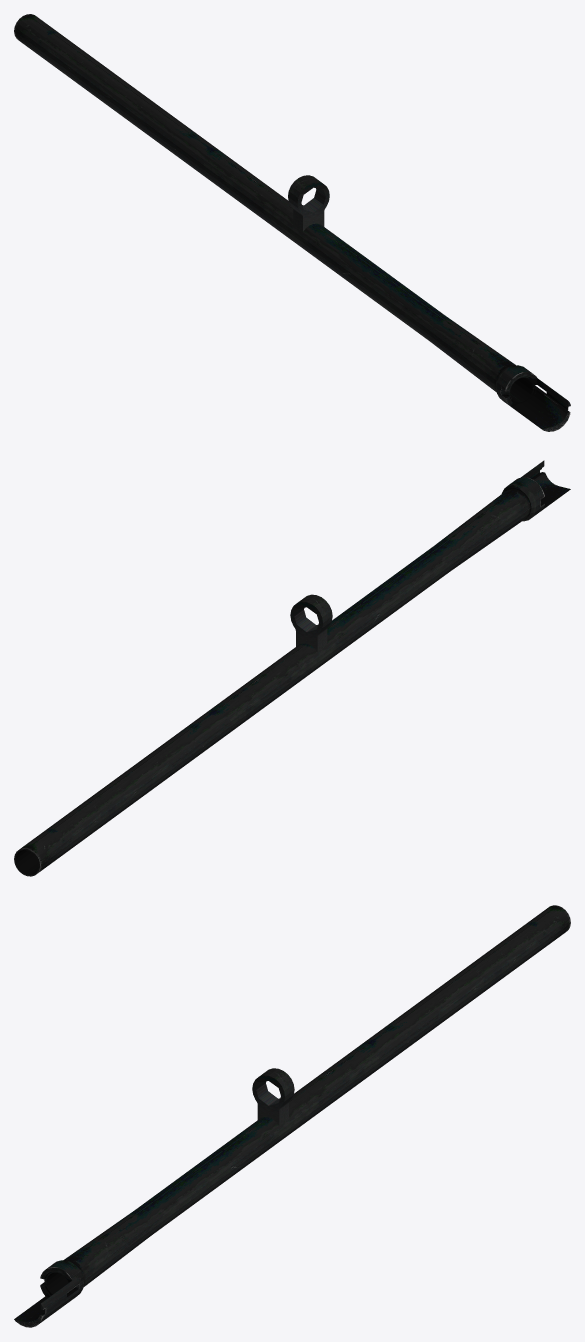
3 renders of one model, top to bottom at view 1: azimuth 30°, elevation 25°; view 2: azimuth 150°, elevation 25°; view 3: azimuth 330°, elevation 25°, orthographic.
Parts seen in each view (by area): view 1: TW_5608373c4bdc2dc8488b4570_PZ_Import; view 2: TW_5608373c4bdc2dc8488b4570_PZ_Import; view 3: TW_5608373c4bdc2dc8488b4570_PZ_Import.
Part boxes in pixels (<box>): TW_5608373c4bdc2dc8488b4570_PZ_Import: <box>14,14,570,431</box>; TW_5608373c4bdc2dc8488b4570_PZ_Import: <box>14,460,570,876</box>; TW_5608373c4bdc2dc8488b4570_PZ_Import: <box>14,905,570,1327</box>.
Bounding box in the file's own units: 0.0167 × 0.4367 × 0.0334.
1 material, 1 textured.
